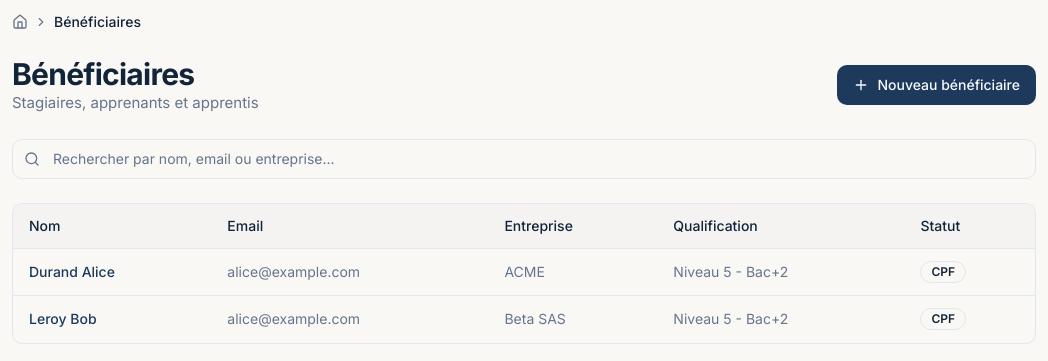
it: BeneficiariesListPage › filters beneficiaries by company name
In the field with placeholder "Rechercher par nom, email ou entreprise...": (524, 158) [12,138,1036,178], type "beta"
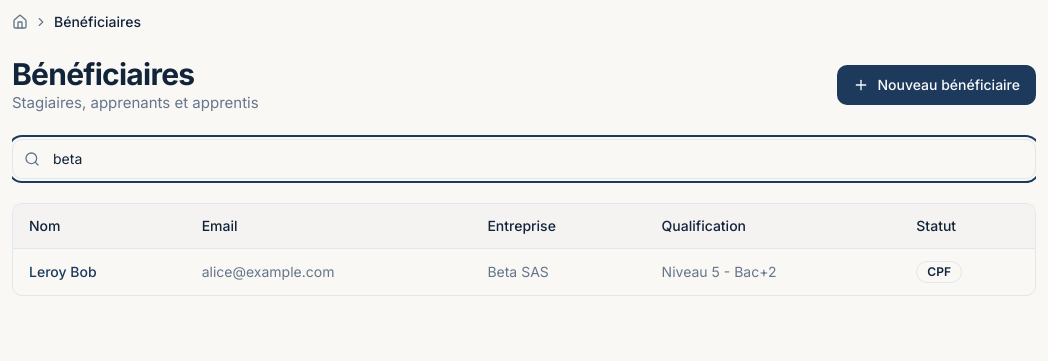
Expected: the text "Beta SAS" is shown, [471,248,646,295]
Now the text "ACME" is gone
